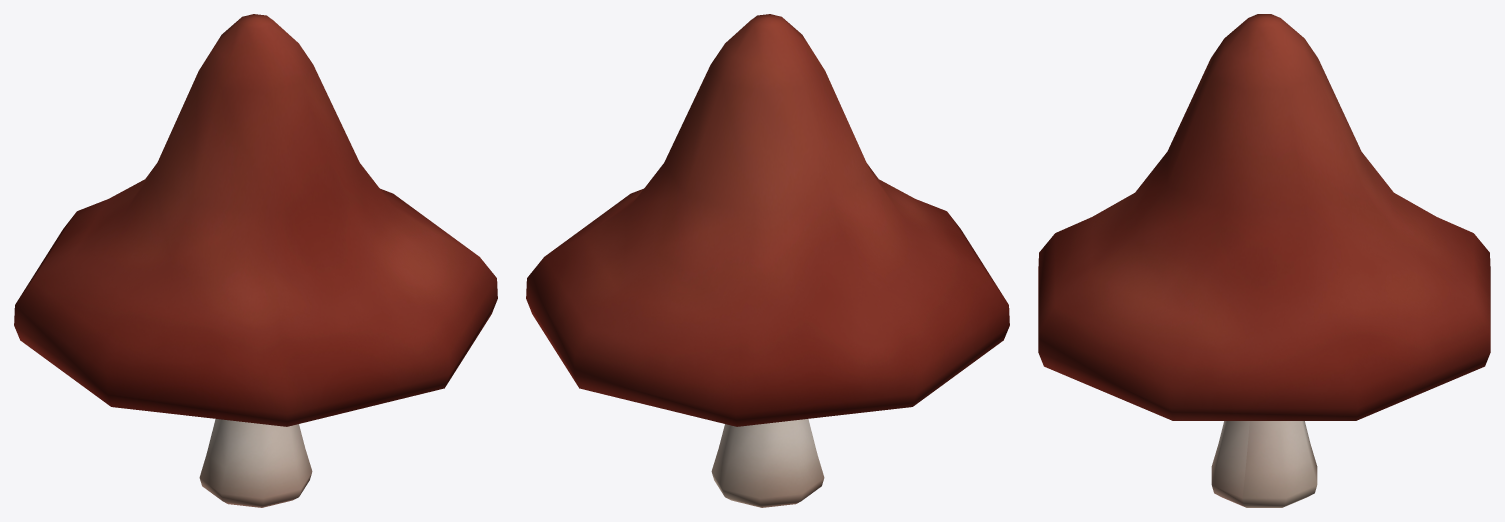
Rendered from fungo3.fbx.
3 views of the same model, side by side, from view 1: azimuth 30°, elevation 25°; view 2: azimuth 150°, elevation 25°; view 3: azimuth 270°, elevation 25° (orthographic).
Visible parts, largest first — view 1: fungo3; view 2: fungo3; view 3: fungo3.
Part boxes in pixels (x1,y1,x2,y2): fungo3: (14, 14, 497, 507); fungo3: (526, 14, 1009, 507); fungo3: (1038, 14, 1490, 507).
Bounding box in the file's own units: 3.35 × 3.87 × 3.35.
